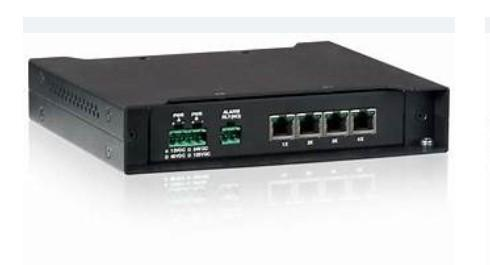NetworkSwitch: (30, 41, 450, 175)
